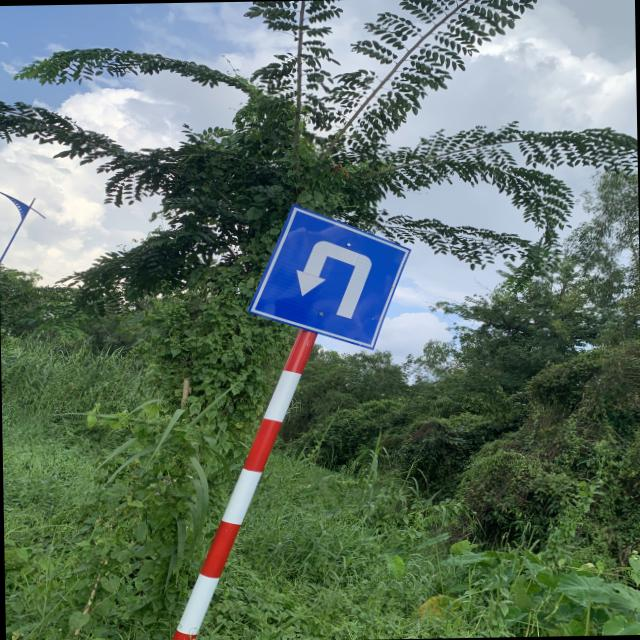Den_Giao_Thong: (247, 202, 416, 352)
